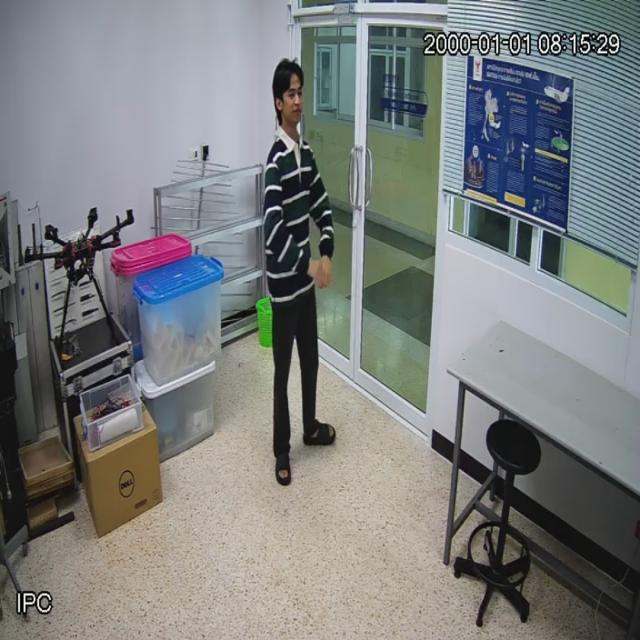normal: (265, 59, 336, 480)
